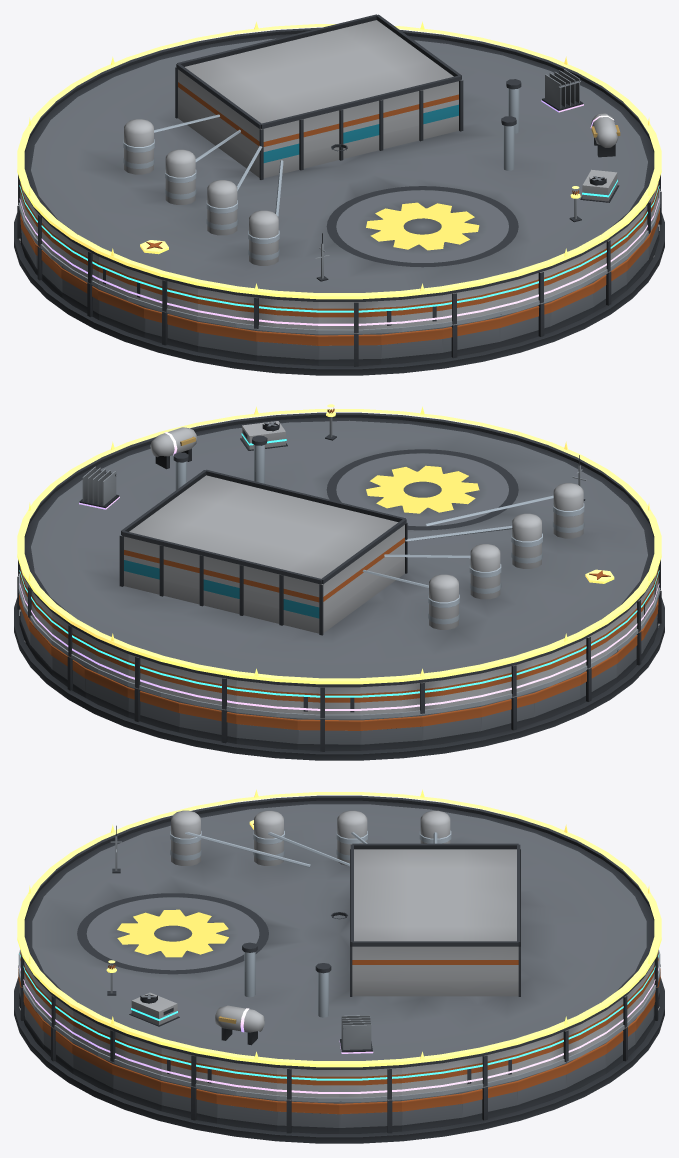
File: superconductor_lab_xl_far.glb
3 views of the same model, one above another, from view 1: azimuth 30°, elevation 25°; view 2: azimuth 150°, elevation 25°; view 3: azimuth 270°, elevation 25° (orthographic).
Visible parts, largest first — view 1: Roof, Base, L5, L4, L2, L3; view 2: Roof, Base, L5, L4, L2, L3; view 3: Roof, Base, L5, L4, L2, L3.
Part boxes in pixels (x1,y1,x2,y2): Roof: (18,14,660,333); Base: (14,191,664,375); L5: (17,21,661,299); L4: (19,69,659,325); L2: (18,188,660,334); L3: (19,144,659,312); Roof: (18,412,660,718); Base: (14,576,664,760); L5: (17,404,661,684); L4: (19,427,659,710); L2: (18,455,660,719); L3: (19,421,659,697); Roof: (20,795,658,1099); Base: (14,964,664,1143); L5: (17,789,661,1067); L4: (19,966,659,1093); L2: (18,825,660,1102); L3: (19,912,659,1080).
Bounding box in the file's own units: 23.15 × 4.96 × 23.15.
